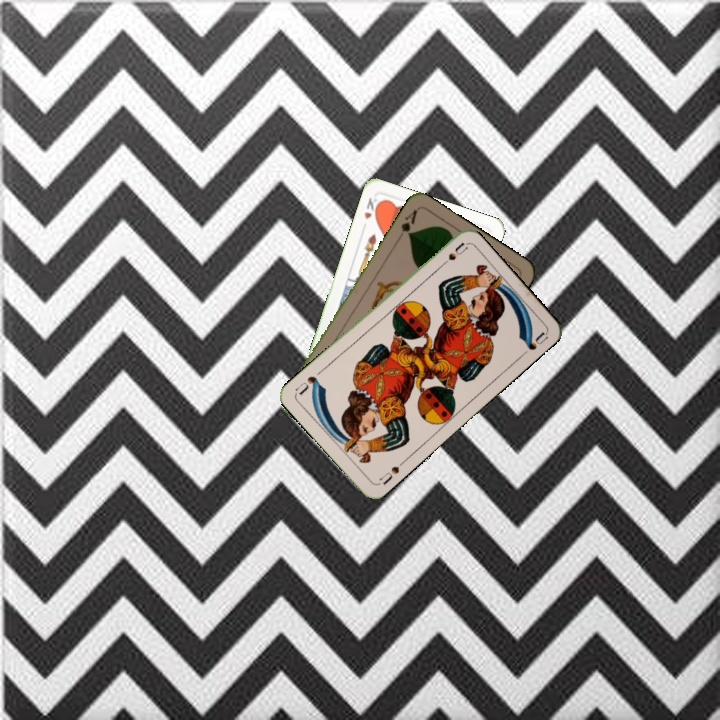GA: (394, 205, 420, 243)
HK: (360, 193, 383, 222)
SU: (434, 238, 470, 271), (375, 456, 408, 487)
